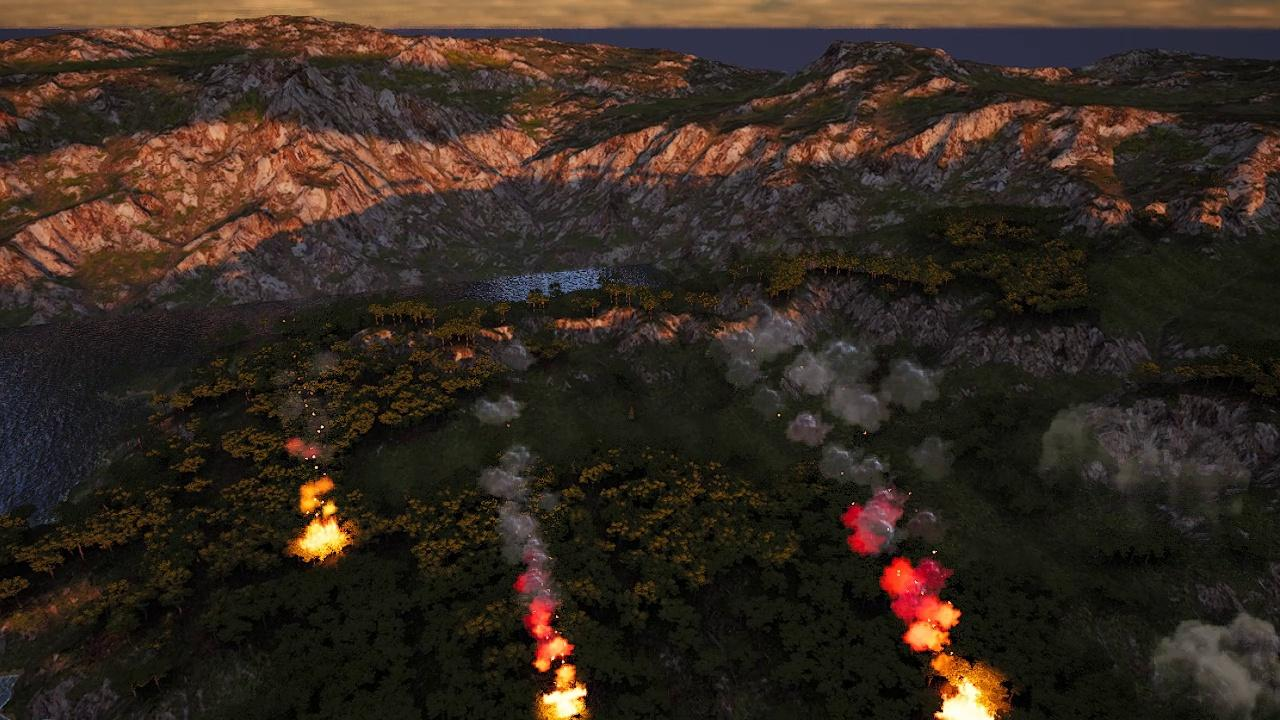fire: (1143, 606, 1280, 720), (887, 558, 965, 659), (294, 504, 350, 560), (539, 665, 590, 720), (529, 612, 575, 672), (935, 678, 999, 720), (285, 437, 319, 459)
smoke: (725, 317, 983, 669), (471, 347, 575, 630)
